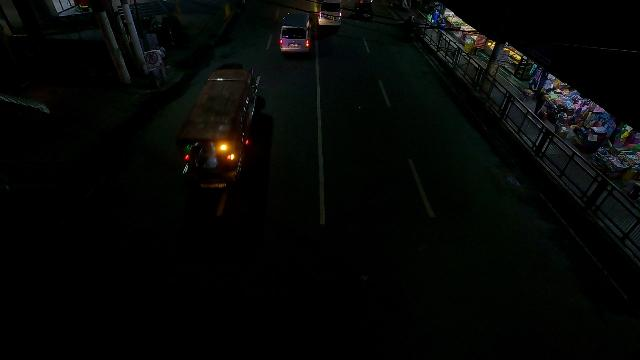jeepney: (178, 64, 262, 194)
van: (276, 7, 312, 54), (315, 0, 342, 27)
